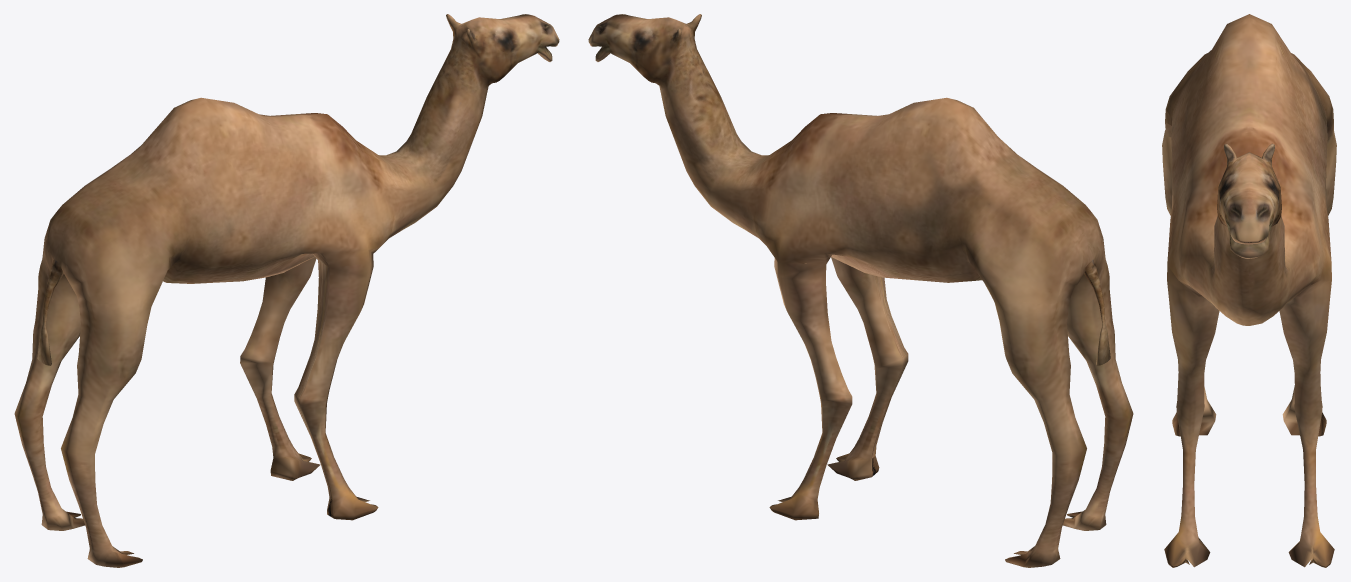
File: camel.fbx
3 views of the same model, side by side, from view 1: azimuth 30°, elevation 25°; view 2: azimuth 150°, elevation 25°; view 3: azimuth 270°, elevation 25° (orthographic). The views are drawn at different scales.
Visible parts, largest first — view 1: camel1; view 2: camel1; view 3: camel1.
Part boxes in pixels (box(x1,y1,x2,y2)): camel1: box(14, 14, 559, 567); camel1: box(588, 14, 1133, 567); camel1: box(1162, 14, 1336, 567).
Bounding box in the file's own units: 579 × 469 × 152.
1 material, 1 textured.
